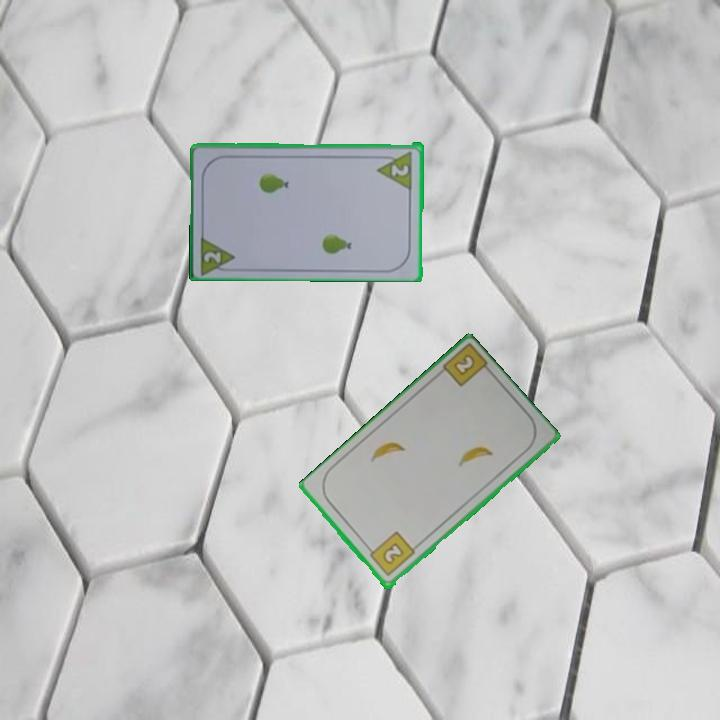2b: (364, 528, 418, 579), (450, 351, 478, 379)
2p: (388, 160, 412, 179), (200, 248, 224, 265)
